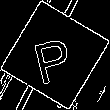P_N: (31, 26, 79, 84)
